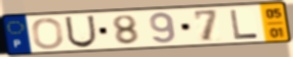7: (193, 8, 221, 44)
8: (110, 14, 141, 46)
9: (148, 11, 178, 45)
L: (228, 9, 261, 40)
O: (31, 17, 66, 50)
U: (63, 14, 99, 49)
